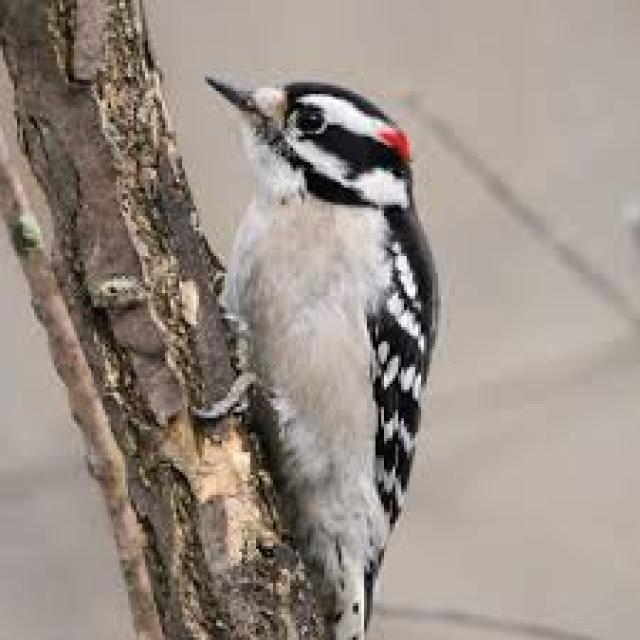Woodpecker: (188, 75, 452, 632)
